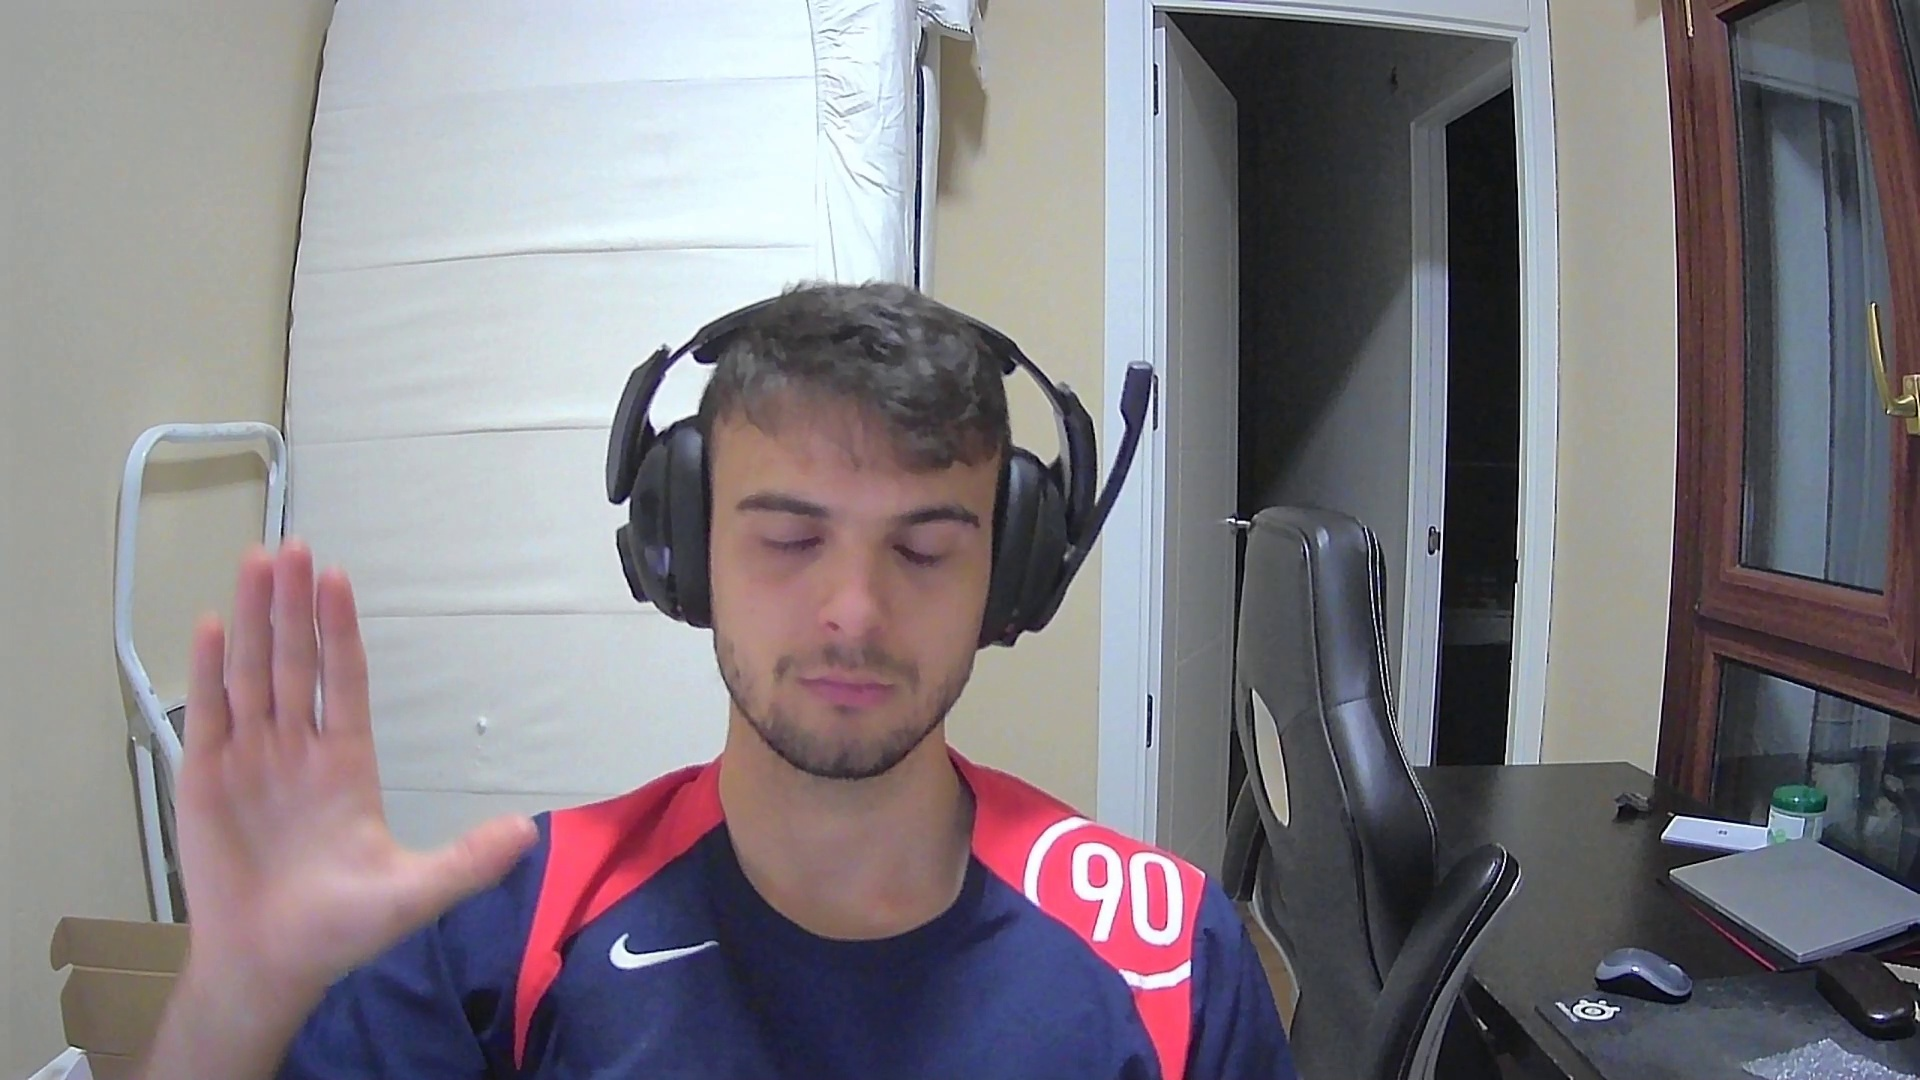Palm: (164, 533, 538, 980)
